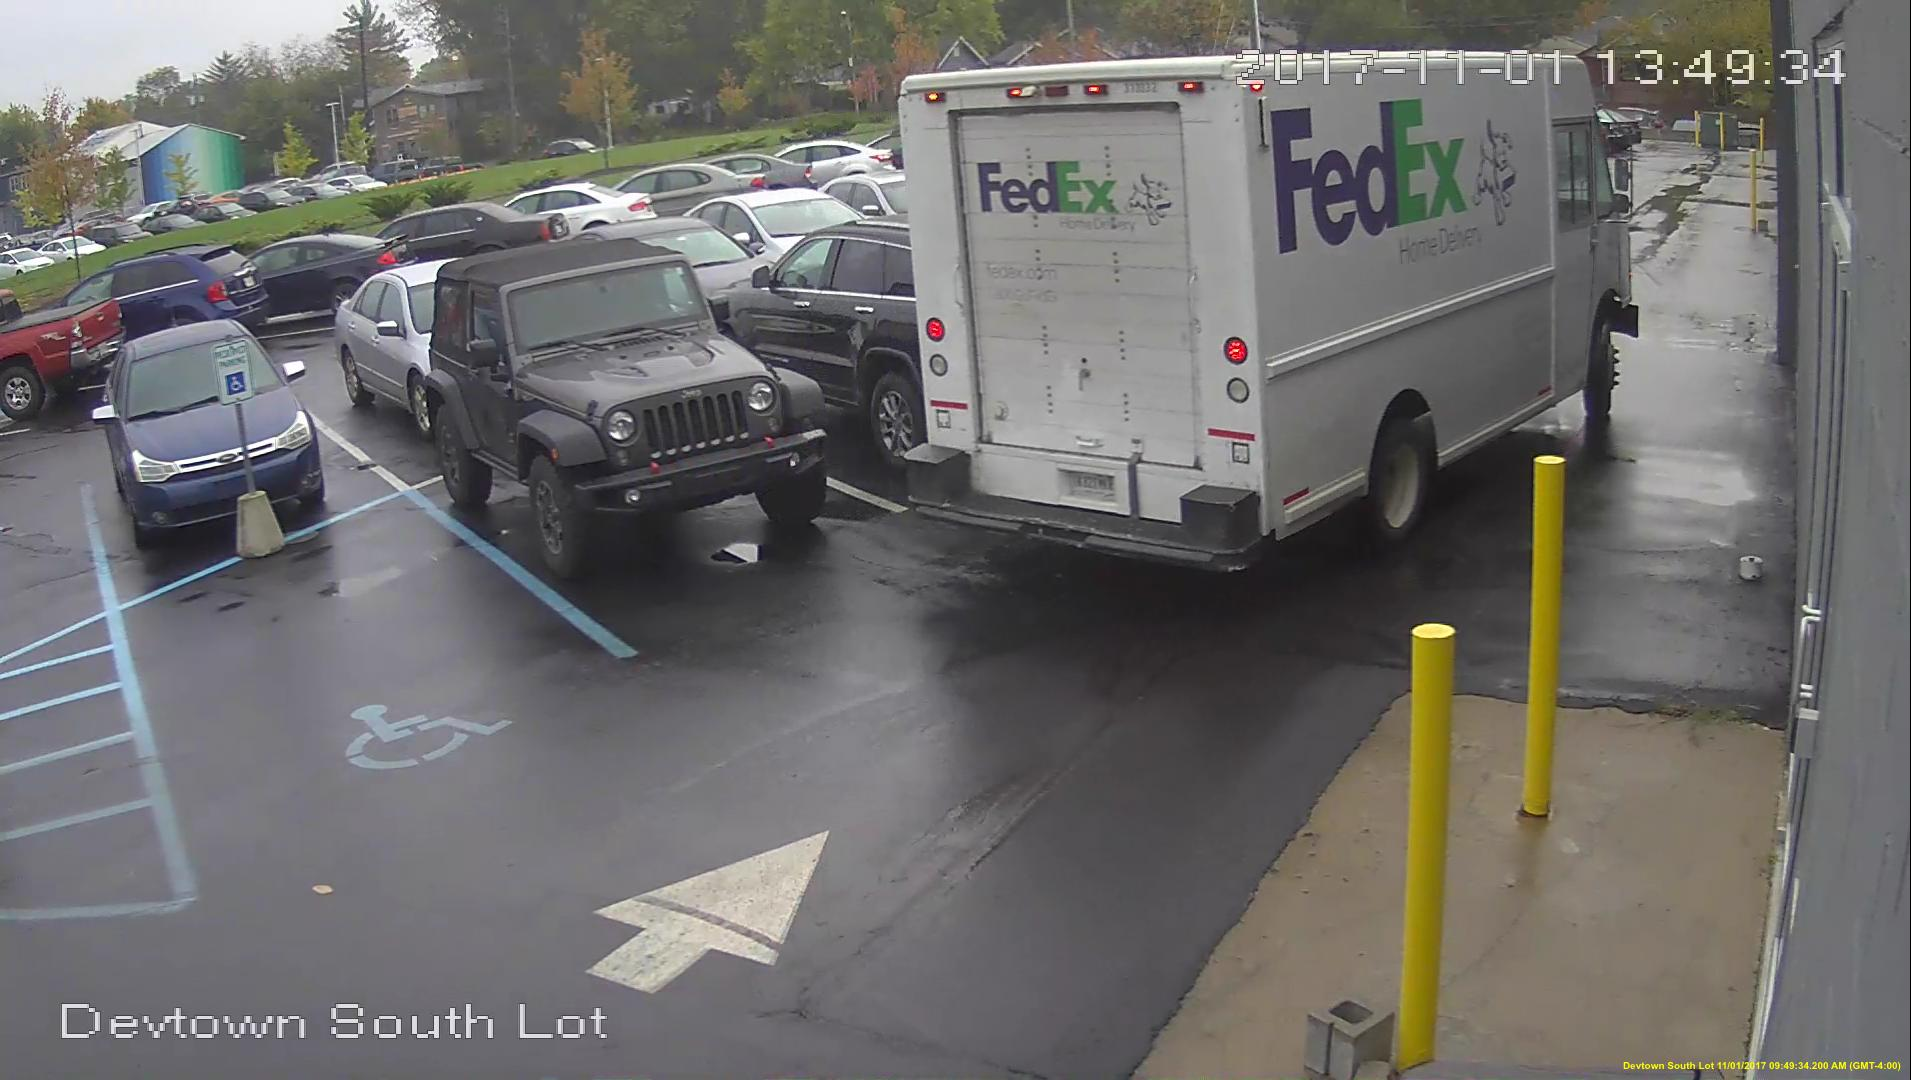fedex_truck: (902, 52, 1631, 571)
